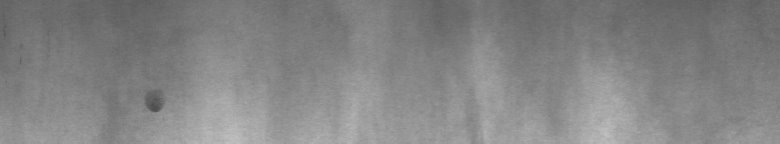fi: (144, 84, 168, 119)
